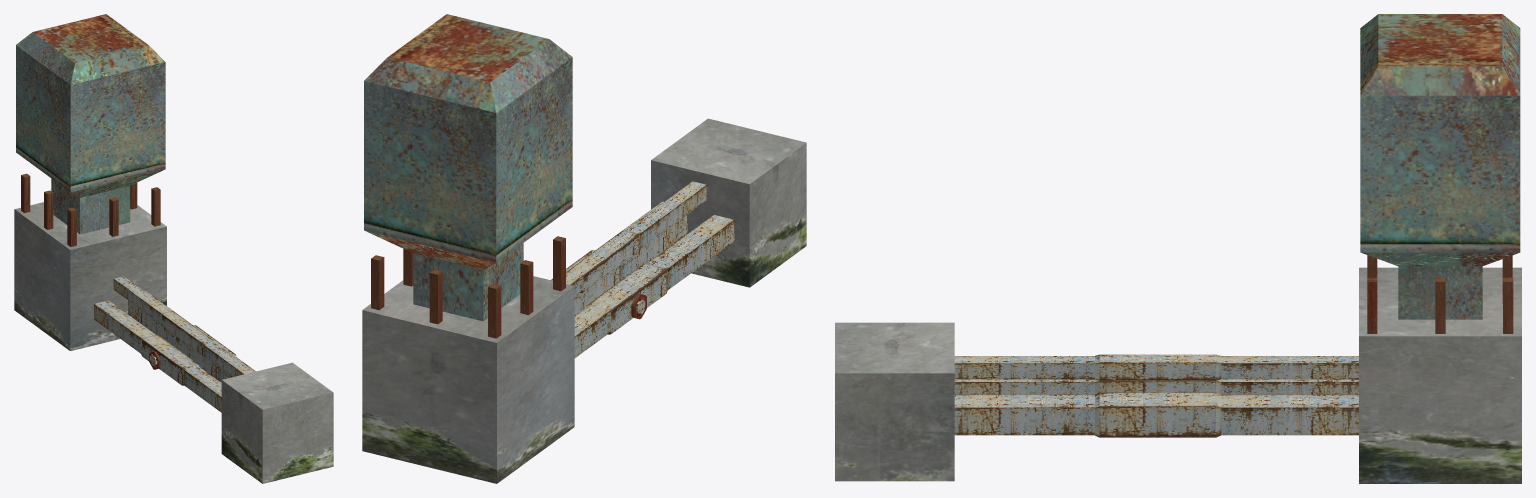
The model's file is WaterTank.fbx.
3 renders of one model, left to right at view 1: azimuth 30°, elevation 25°; view 2: azimuth 150°, elevation 25°; view 3: azimuth 270°, elevation 25°, orthographic. The views are drawn at different scales.
Parts seen in each view (by area): view 1: WaterTank, Cube, Cube.001, Pipes, Fences; view 2: WaterTank, Cube, Cube.001, Pipes, Fences; view 3: WaterTank, Pipes, Cube, Cube.001, Fences.
Boxes of the visible parts, x1,y1,x2,y2 form: WaterTank: [16, 14, 165, 234]; Cube: [14, 202, 166, 350]; Cube.001: [221, 362, 333, 483]; Pipes: [94, 276, 255, 412]; Fences: [21, 173, 160, 246]; WaterTank: [364, 14, 572, 321]; Cube: [362, 276, 574, 483]; Cube.001: [651, 118, 806, 287]; Pipes: [551, 181, 734, 357]; Fences: [371, 236, 565, 338]; WaterTank: [1360, 14, 1520, 319]; Pipes: [954, 354, 1358, 437]; Cube: [1359, 267, 1521, 483]; Cube.001: [835, 322, 954, 481]; Fences: [1367, 255, 1513, 333].
Size of the model in its own units: 537 by 1512 by 2262.
